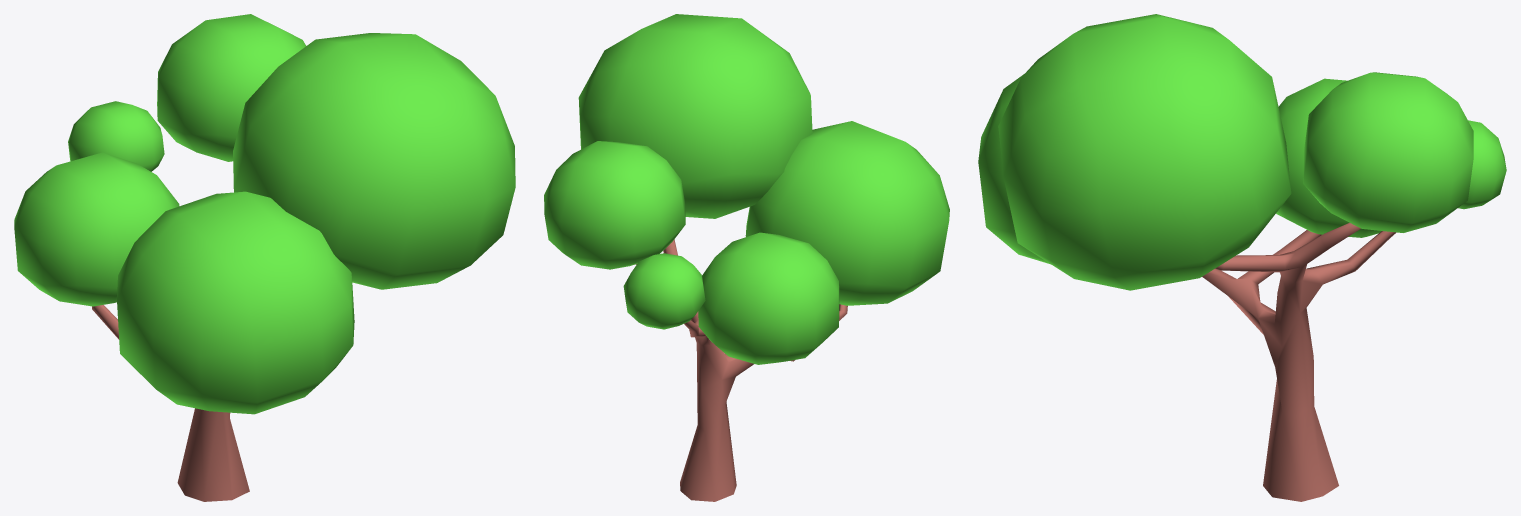
Rendered from Tree.fbx.
The picture shows the model from 3 angles, left to right: view 1: azimuth 30°, elevation 25°; view 2: azimuth 150°, elevation 25°; view 3: azimuth 270°, elevation 25°; orthographic projection. The views are drawn at different scales.
Parts seen in each view (by area): view 1: Tree; view 2: Tree; view 3: Tree.
Part boxes in pixels (bbox=[...]): Tree: bbox=[14, 14, 515, 501]; Tree: bbox=[544, 14, 949, 501]; Tree: bbox=[978, 14, 1506, 501].
Bounding box in the file's own units: 865 × 1035 × 989.
